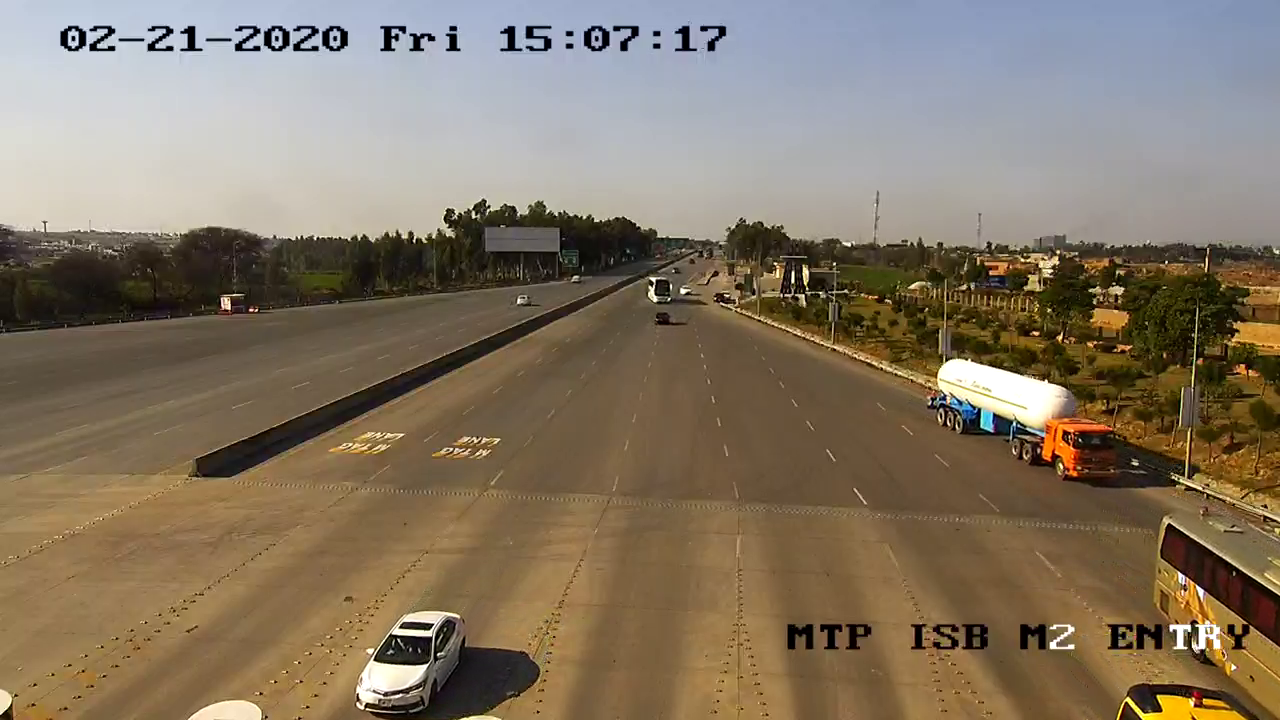f1: (348, 601, 475, 719)
f6: (919, 354, 1132, 497)
